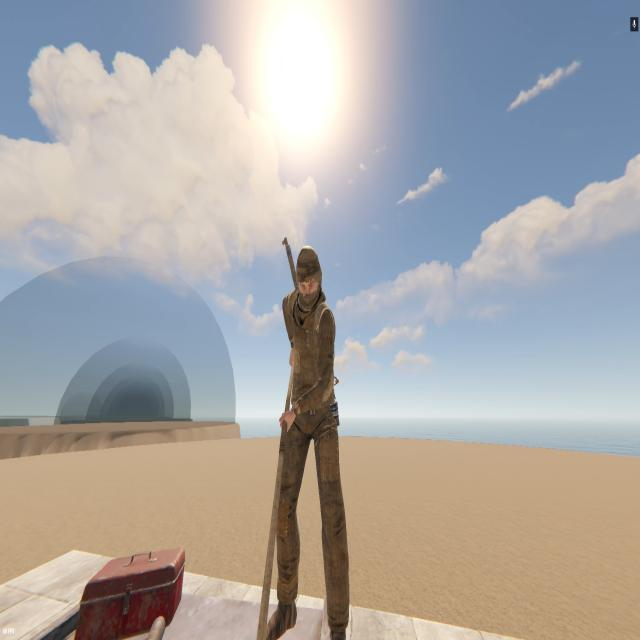Player: (268, 242, 352, 640)
